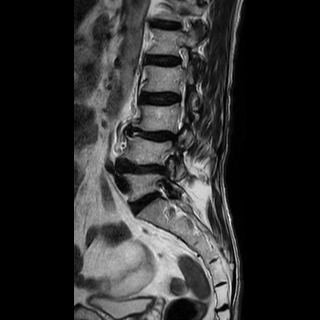LFS0: (170, 40, 194, 72)
